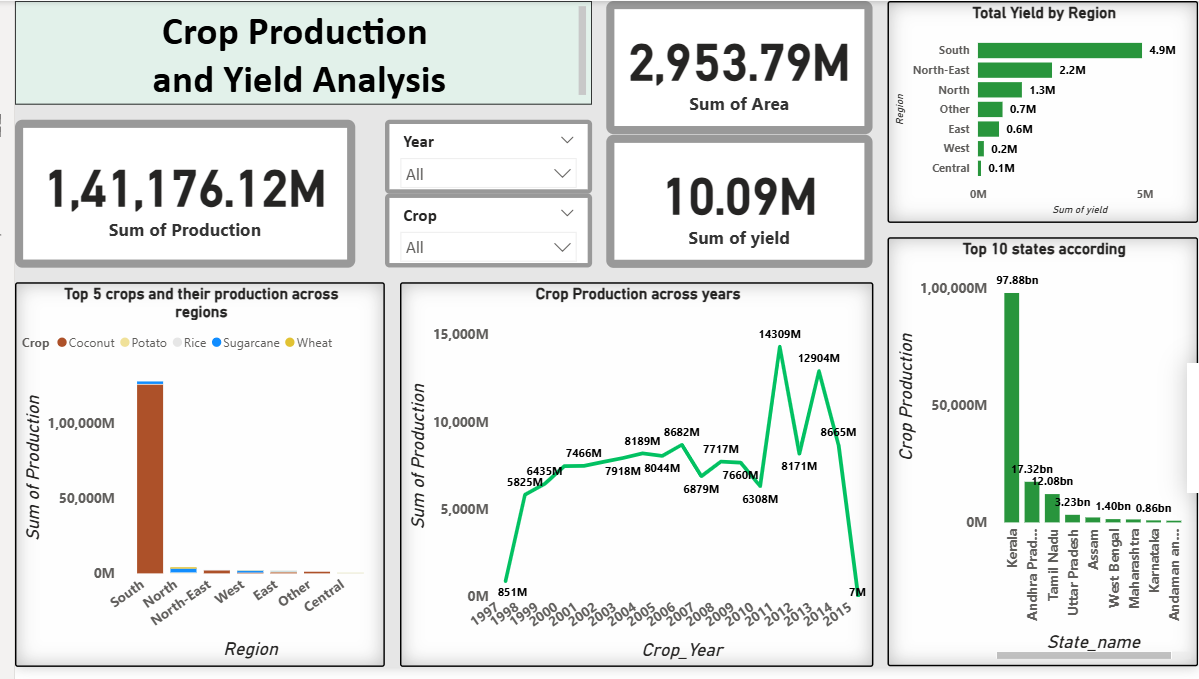

The page's visual inventory and layout, read from the dashboard file:
{"tool":"powerbi","page":{"name":"Dashboard","canvas":[1280,720],"ordinal":0},"visuals":[{"type":"columnChart","title":"Top 10 States by Production","fields":{"Category":["Crop_prod_study.State_Name"],"Y":["Sum(Crop_prod_study.Production)"]},"box":[944,256,336,464],"z":0},{"type":"lineChart","title":"Crop Production across years","fields":{"Category":["Crop_prod_study.Crop_Year"],"Y":["Sum(Crop_prod_study.Production)"]},"box":[416,304,512,416],"z":1000},{"type":"barChart","title":"Average Yield by Region","fields":{"Category":["Crop_prod_study.Region"],"Y":["Crop_prod_study.Avg Yield"]},"box":[944,0,336,240],"z":2000},{"type":"lineStackedColumnComboChart","title":"Top 5 crops and their production across regions","fields":{"Series":["Crop_prod_study.Crop"],"Category":["Crop_prod_study.Region"],"Y":["Sum(Crop_prod_study.Production)"]},"box":[0,304,400,416],"z":3000},{"type":"card","fields":{"Values":["Sum(Crop_prod_study.Production)"]},"box":[0,128,368,160],"z":4000},{"type":"card","fields":{"Values":["Crop_prod_study.Avg Yield"]},"box":[640,144,288,144],"z":5000},{"type":"textbox","box":[0,0,624,112],"z":6000},{"type":"card","fields":{"Values":["Sum(Crop_prod_study.Area)"]},"box":[640,0,288,144],"z":7000},{"type":"slicer","fields":{"Values":["Crop_prod_study.Crop_Year"]},"box":[400,128,224,80],"z":8000},{"type":"slicer","fields":{"Values":["Crop_prod_study.Crop"]},"box":[400,208,224,80],"z":9000}]}

Visuals, with their boxes in screenshot pixels (x1, y1, x2, y2), scaled from the page's 1280x720 canvas onto the 1199x679 screenshot:
"Top 10 States by Production" columnChart: <box>884,241,1198,678</box>
"Crop Production across years" lineChart: <box>390,287,869,678</box>
"Average Yield by Region" barChart: <box>884,0,1198,226</box>
"Top 5 crops and their production across regions" lineStackedColumnComboChart: <box>0,287,375,678</box>
card - Sum(Crop_prod_study.Production): <box>0,121,345,272</box>
card - Crop_prod_study.Avg Yield: <box>600,136,869,272</box>
textbox: <box>0,0,585,106</box>
card - Sum(Crop_prod_study.Area): <box>600,0,869,136</box>
slicer - Crop_prod_study.Crop_Year: <box>375,121,585,196</box>
slicer - Crop_prod_study.Crop: <box>375,196,585,272</box>
